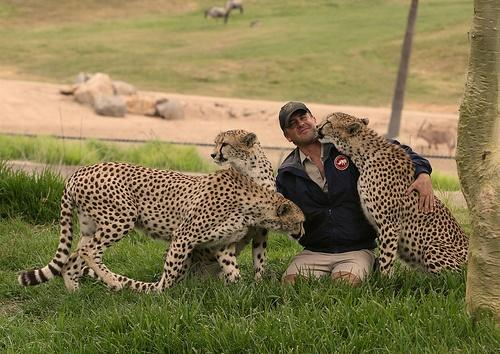cheetah: (17, 160, 306, 289), (316, 111, 469, 283), (165, 129, 274, 283)
person: (274, 99, 434, 290)
